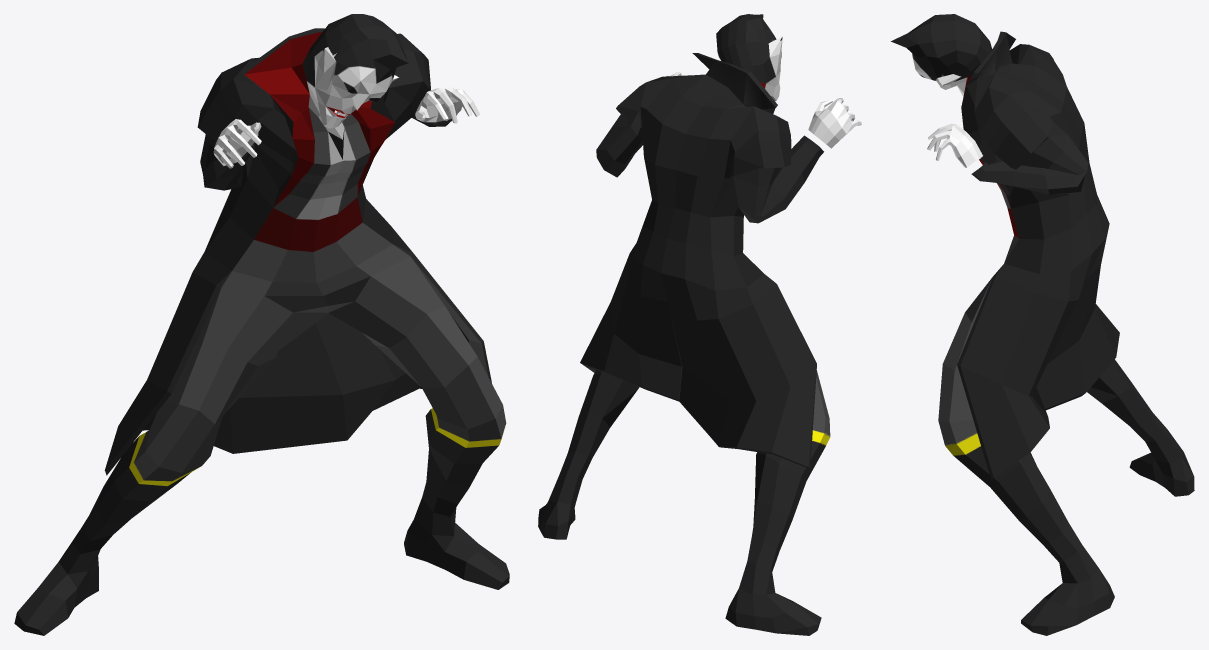
Rendered from VampireAttack(67).obj.
The picture shows the model from 3 angles, left to right: view 1: azimuth 30°, elevation 25°; view 2: azimuth 150°, elevation 25°; view 3: azimuth 270°, elevation 25°; orthographic projection. The views are drawn at different scales.
Visible parts, largest first — view 1: Plane002; view 2: Plane002; view 3: Plane002.
Boxes of the visible parts, bbox=[...] form: Plane002: bbox=[14, 14, 509, 635]; Plane002: bbox=[538, 14, 861, 635]; Plane002: bbox=[891, 14, 1194, 635].
Bounding box in the file's own units: 190 × 279 × 143.
